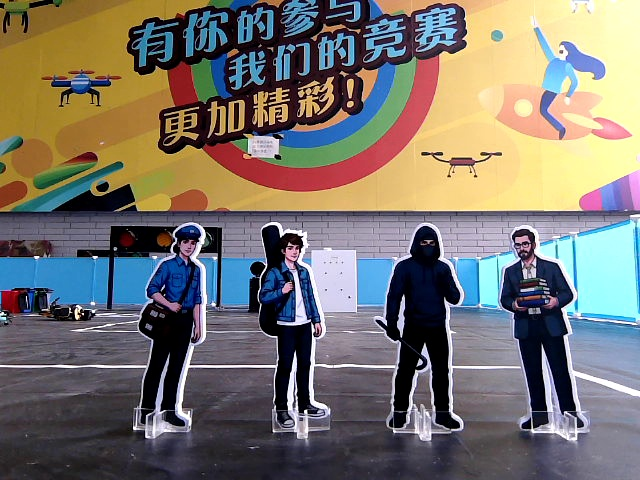community_person: (495, 220, 589, 446), (248, 221, 342, 443), (131, 216, 216, 443)
outsider: (371, 218, 477, 445)
